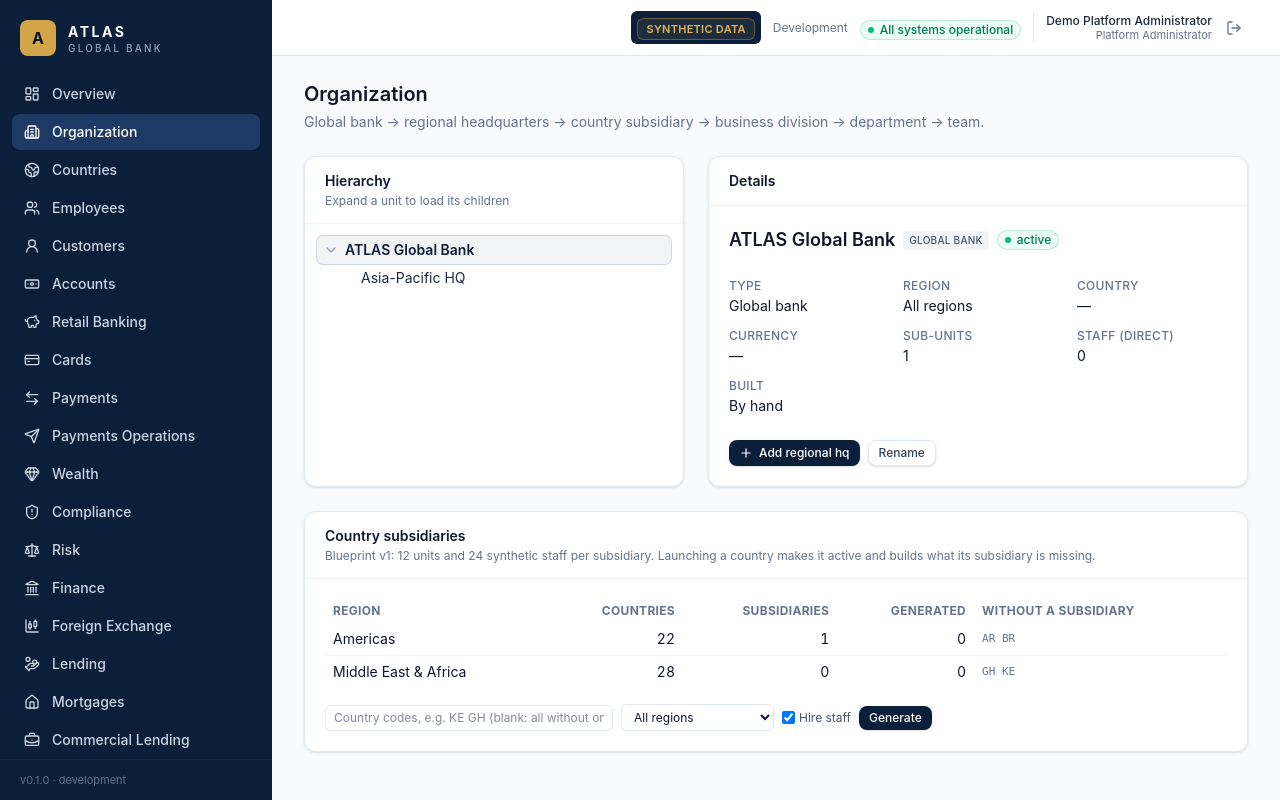
Scenario: Organization page › loads the hierarchy lazily and shows details for the selected unit
Click the button "Asia-Pacific HQ" at (413, 278), box 361,268 -> 663,288
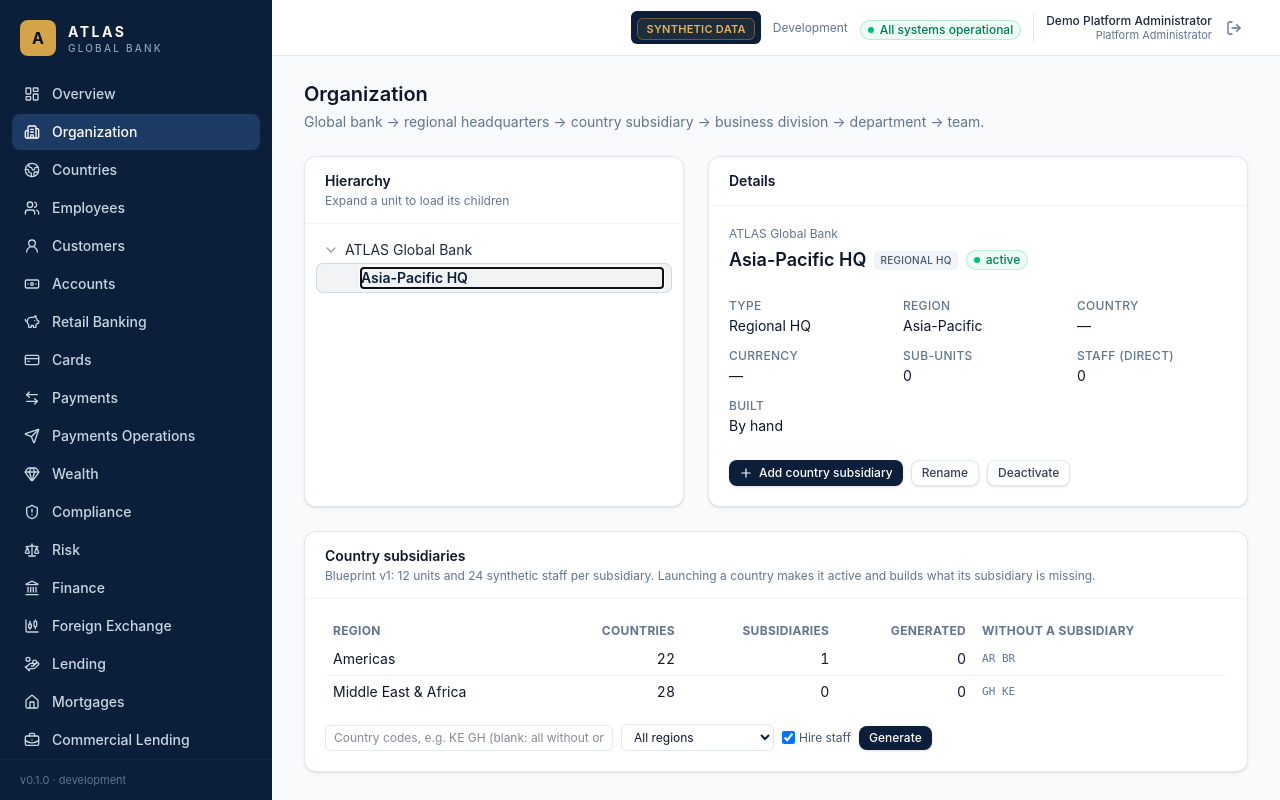
Check: the heading "Asia-Pacific HQ" is shown, box 729,246 -> 866,274
Check: the text "Asia-Pacific" is shown, box 903,317 -> 982,334
Check: the button "Add country subsidiary" is shown, box 729,460 -> 903,486
